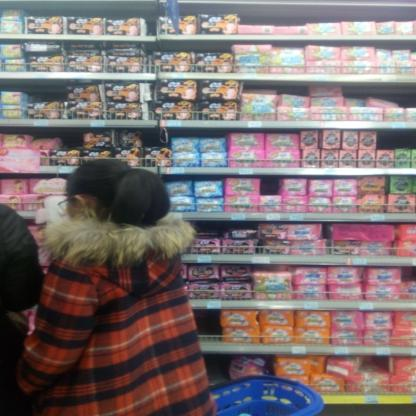Void: (382, 131, 412, 147), (210, 358, 227, 384), (160, 45, 230, 51), (201, 313, 220, 335), (36, 86, 63, 100), (361, 358, 390, 371), (400, 89, 414, 107), (66, 134, 80, 150), (146, 135, 166, 146), (283, 85, 308, 92), (264, 180, 277, 192), (405, 269, 416, 278)
